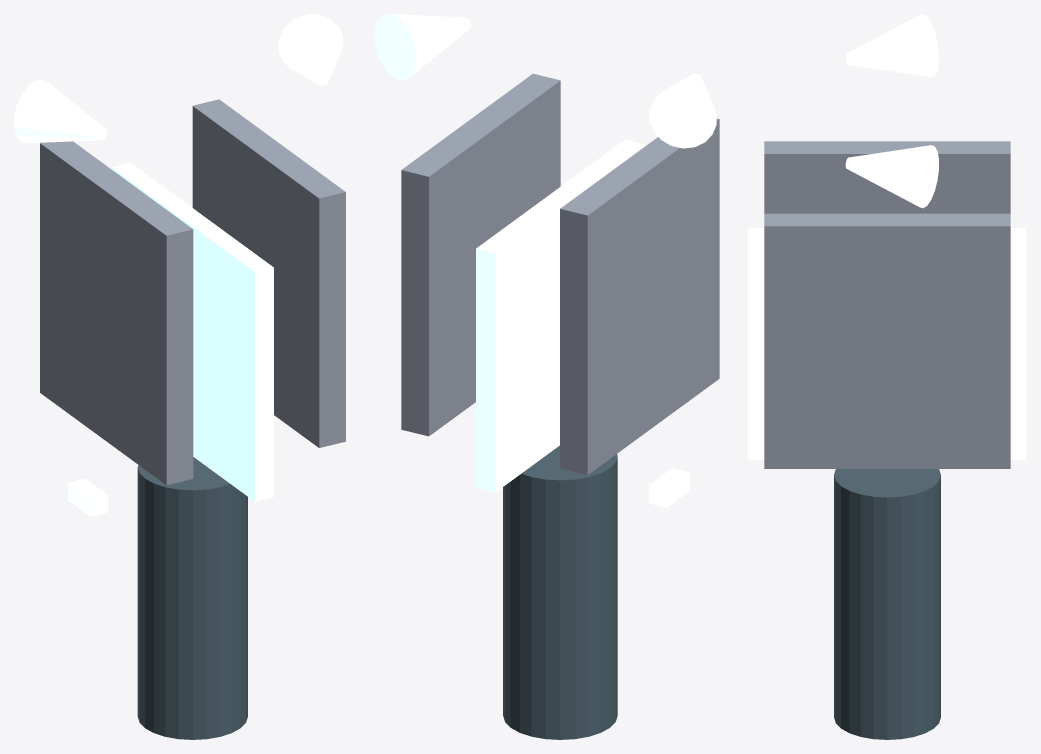
Rendered from lightning.glb.
3 renders of one model, left to right at view 1: azimuth 30°, elevation 25°; view 2: azimuth 150°, elevation 25°; view 3: azimuth 270°, elevation 25°, orthographic. The views are drawn at different scales.
Parts seen in each view (by area): view 1: fork_l, fork_r, handle, spine, arc_mark_a, arc_mark_b, asym_lug; view 2: fork_l, fork_r, handle, spine, arc_mark_b, arc_mark_a, asym_lug; view 3: fork_r, handle, fork_l, spine, arc_mark_a, arc_mark_b.
Boxes of the visible parts, x1,y1,x2,y2 form: fork_l: (40,141,193,485); fork_r: (192,99,345,447); handle: (137,457,247,739); spine: (111,162,273,501); arc_mark_a: (14,79,107,143); arc_mark_b: (278,14,342,86); asym_lug: (68,478,107,516); fork_l: (560,118,719,474); fork_r: (401,73,560,436); handle: (503,445,617,739); spine: (476,139,644,492); arc_mark_b: (374,14,471,80); arc_mark_a: (649,73,716,148); asym_lug: (649,468,689,507); fork_r: (764,213,1010,468); handle: (834,469,940,739); fork_l: (764,141,1010,213); spine: (748,228,1026,459); arc_mark_a: (845,14,938,77); arc_mark_b: (845,145,938,208).
Bounding box in the file's own units: 0.3448 × 0.655 × 0.26.
